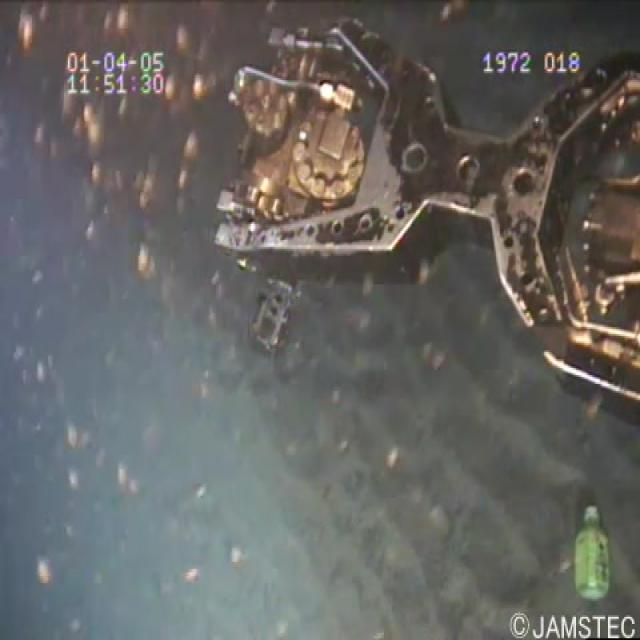plastic: (564, 496, 620, 608)
